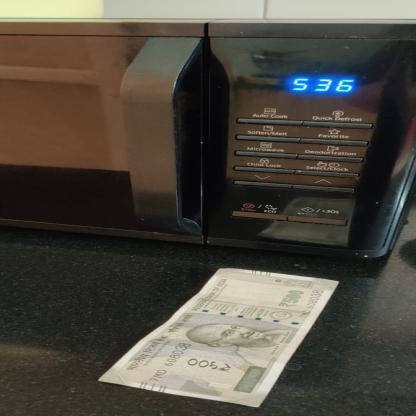New500Front: (95, 267, 342, 407)
